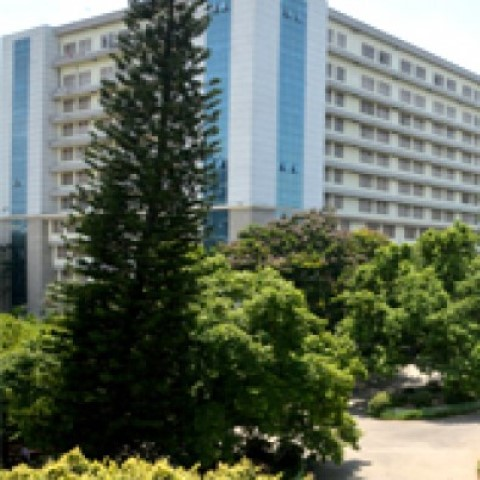Central Block: (3, 11, 480, 267)
